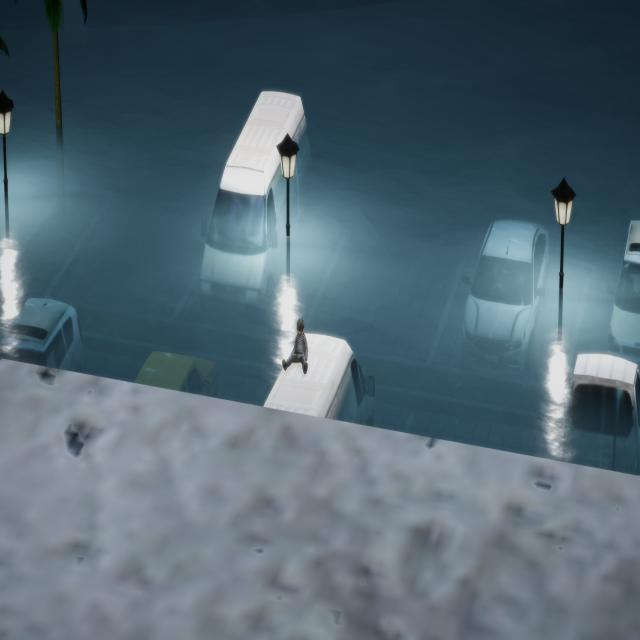Human: (280, 314, 317, 379)
